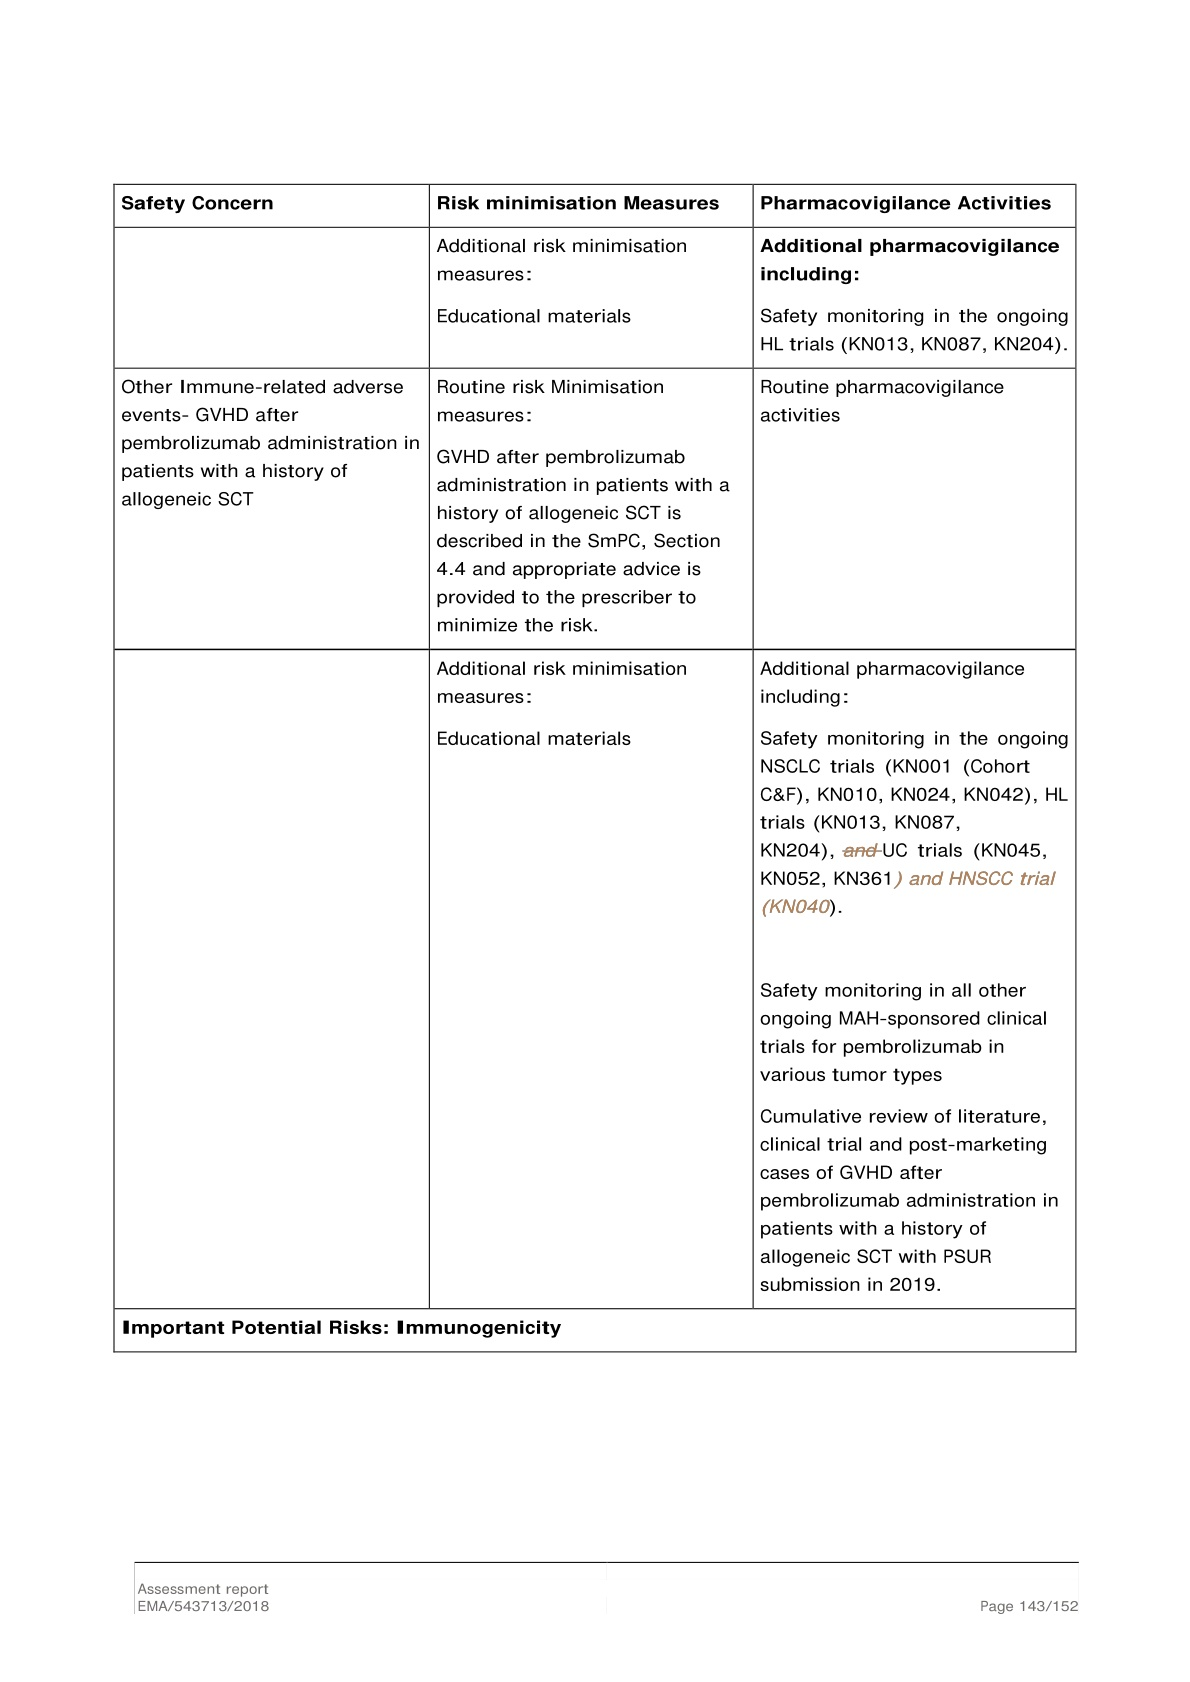merged_cells: (112, 183, 1077, 1354)
